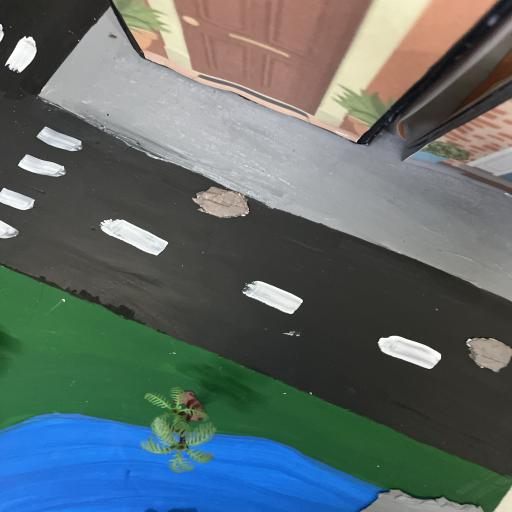encroachment: (362, 485, 482, 512)
porthole: (190, 185, 251, 220), (463, 335, 512, 374)
